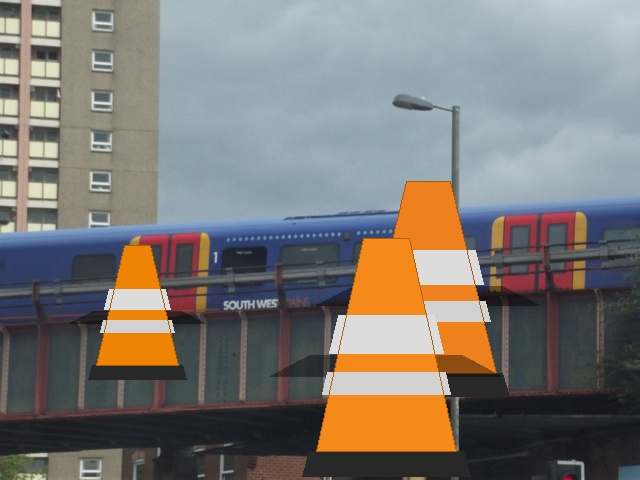traffic-cone: (302, 238, 470, 476), (347, 181, 509, 396), (88, 245, 186, 379)
